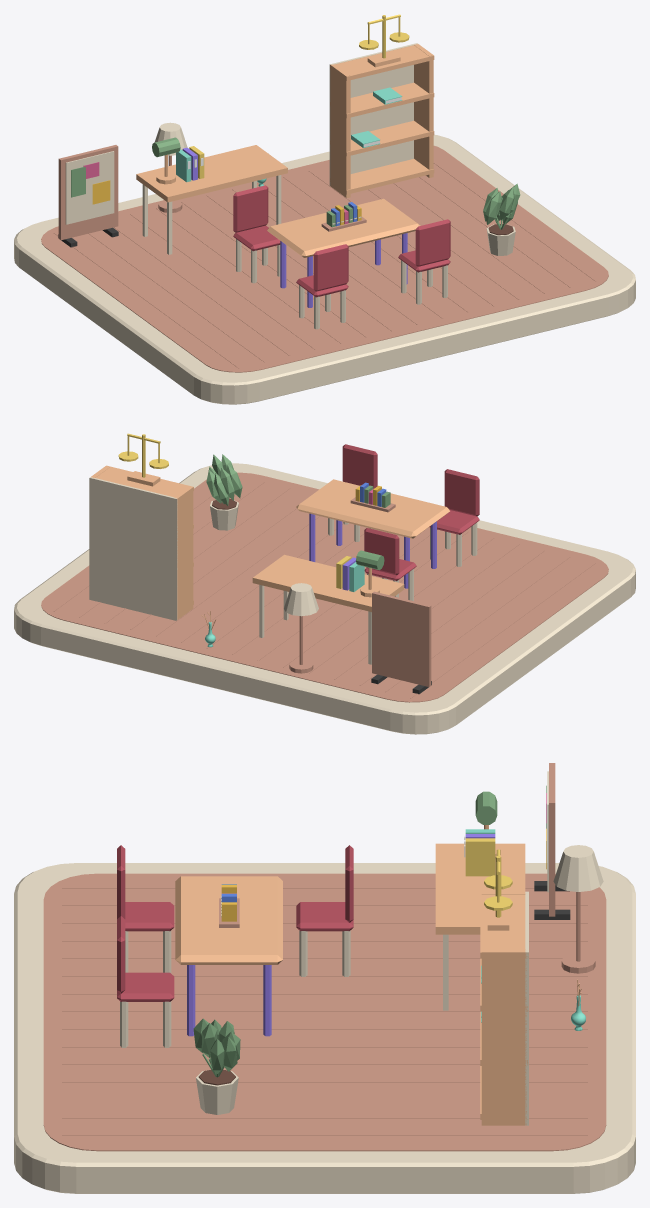
3 views of the same model, one above another, from view 1: azimuth 30°, elevation 25°; view 2: azimuth 150°, elevation 25°; view 3: azimuth 270°, elevation 25° (orthographic). The views are drawn at different scales.
Parts seen in each view (by area): view 1: COM-02 Floor Surface, COM-01 Rounded Base Direct, Top, Rounded table top, Back, Side, Canvas, Panel, Pot, Side.001, Shelf, Backrest (+6 smaller); view 2: COM-02 Floor Surface, COM-01 Rounded Base Direct, Back, Panel, Rounded table top, Top, Side, Pot, Backrest, Backrest.001, Backrest.002, Shelf.003 (+2 smaller); view 3: COM-02 Floor Surface, COM-01 Rounded Base Direct, Rounded table top, Side.001, Top, Pot, Shelf.003, Lamp shade, Seat.001, Seat.002, Seat, File.002 (+15 smaller).
Boxes of the visible parts, x1,y1,x2,y2 form: COM-02 Floor Surface: (41, 145, 608, 372); COM-01 Rounded Base Direct: (14, 134, 635, 404); Top: (136, 145, 287, 254); Rounded table top: (267, 198, 420, 257); Back: (329, 43, 417, 185); Side: (330, 64, 350, 197); Canvas: (65, 151, 114, 224); Panel: (58, 145, 118, 240); Pot: (483, 183, 520, 255); Side.001: (414, 44, 433, 177); Shelf: (330, 159, 434, 194); Backrest: (313, 244, 348, 291); COM-02 Floor Surface: (41, 472, 608, 702); COM-01 Rounded Base Direct: (14, 463, 635, 734); Back: (89, 477, 177, 620); Panel: (372, 591, 431, 686); Rounded table top: (296, 479, 449, 538); Top: (252, 554, 404, 664); Side: (173, 486, 193, 619); Pot: (206, 454, 242, 530); Backrest: (444, 469, 479, 516); Backrest.001: (342, 444, 377, 488); Backrest.002: (364, 528, 399, 575); Shelf.003: (96, 465, 193, 496); COM-02 Floor Surface: (43, 873, 606, 1151); COM-01 Rounded Base Direct: (14, 863, 635, 1193); Rounded table top: (175, 876, 282, 964); Side.001: (481, 949, 526, 1125); Top: (435, 843, 525, 1010); Pot: (193, 1018, 240, 1114); Shelf.003: (480, 892, 528, 958); Lamp shade: (553, 845, 603, 891); Seat.001: (117, 972, 174, 1001); Seat.002: (296, 902, 353, 931); Seat: (125, 902, 174, 931); File.002: (465, 838, 495, 876).
Bounding box in the file's own units: 6 × 2.5 × 5.2.
Materials: 1 (1 with a texture image).
